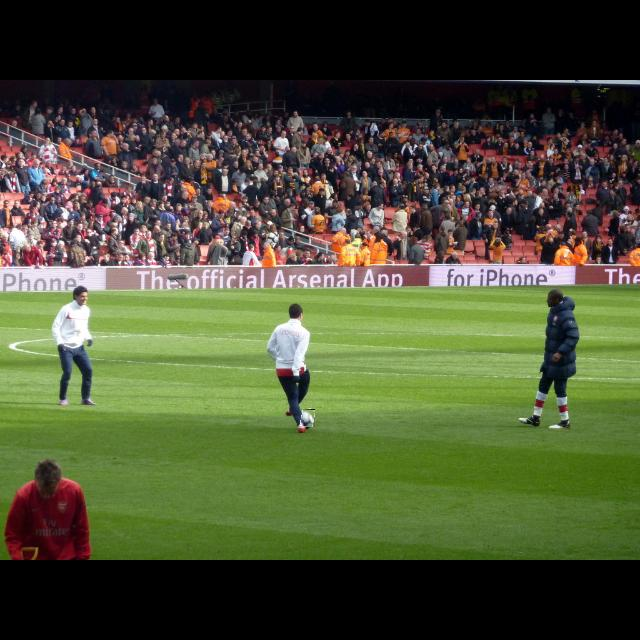Football: (301, 409, 315, 427)
